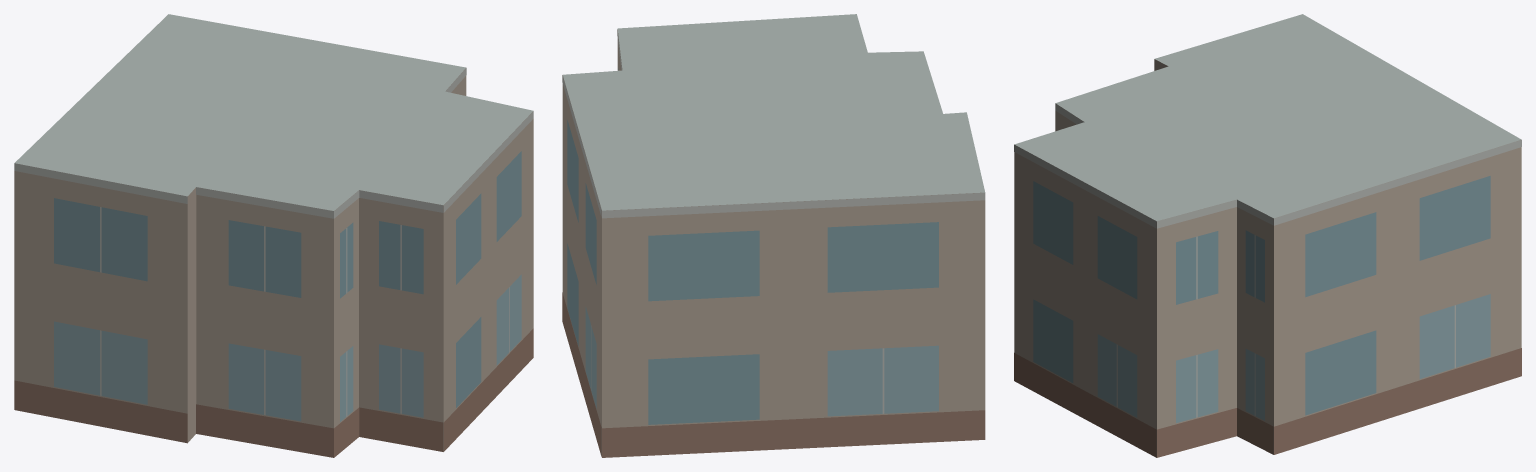
The model's file is survey-upis-32730044.glb.
3 views of the same model, side by side, from view 1: azimuth 30°, elevation 25°; view 2: azimuth 150°, elevation 25°; view 3: azimuth 270°, elevation 25° (orthographic). The views are drawn at different scales.
Parts seen in each view (by area): view 1: survey-upis-32730044.tmp; view 2: survey-upis-32730044.tmp; view 3: survey-upis-32730044.tmp.
Part boxes in pixels (x1,y1,x2,y2): survey-upis-32730044.tmp: [14, 14, 533, 457]; survey-upis-32730044.tmp: [562, 14, 985, 457]; survey-upis-32730044.tmp: [1014, 14, 1521, 457].
Bounding box in the file's own units: 14.67 × 7.8 × 15.17.
